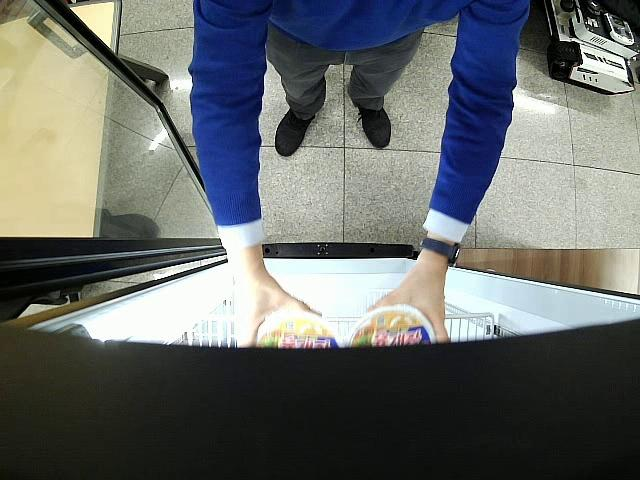00_hand: (232, 272, 323, 348), (367, 266, 449, 341)
09_yukGaeJang: (346, 305, 435, 348), (255, 311, 342, 348)
